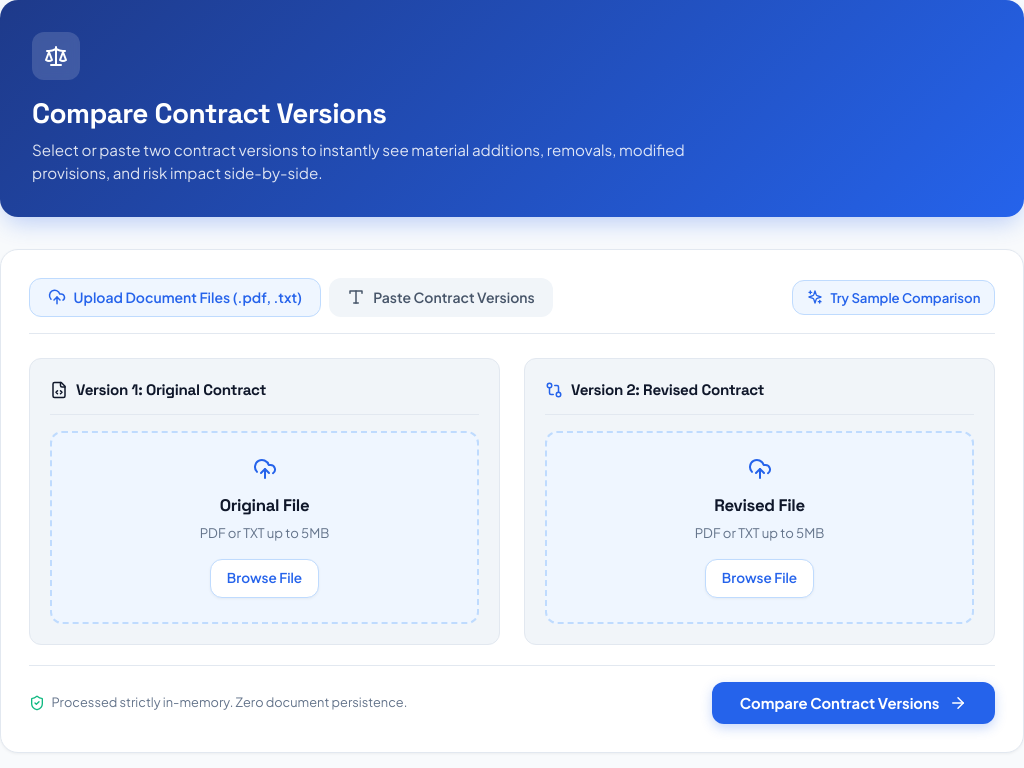
Test case: Frontend Edge Cases, Error States, and Loading States › Loading States › displays loading spinner state in DocumentComparison while API promise is pending
Click the button "Paste Contract Versions" at [441, 297], box [329, 278, 553, 317]
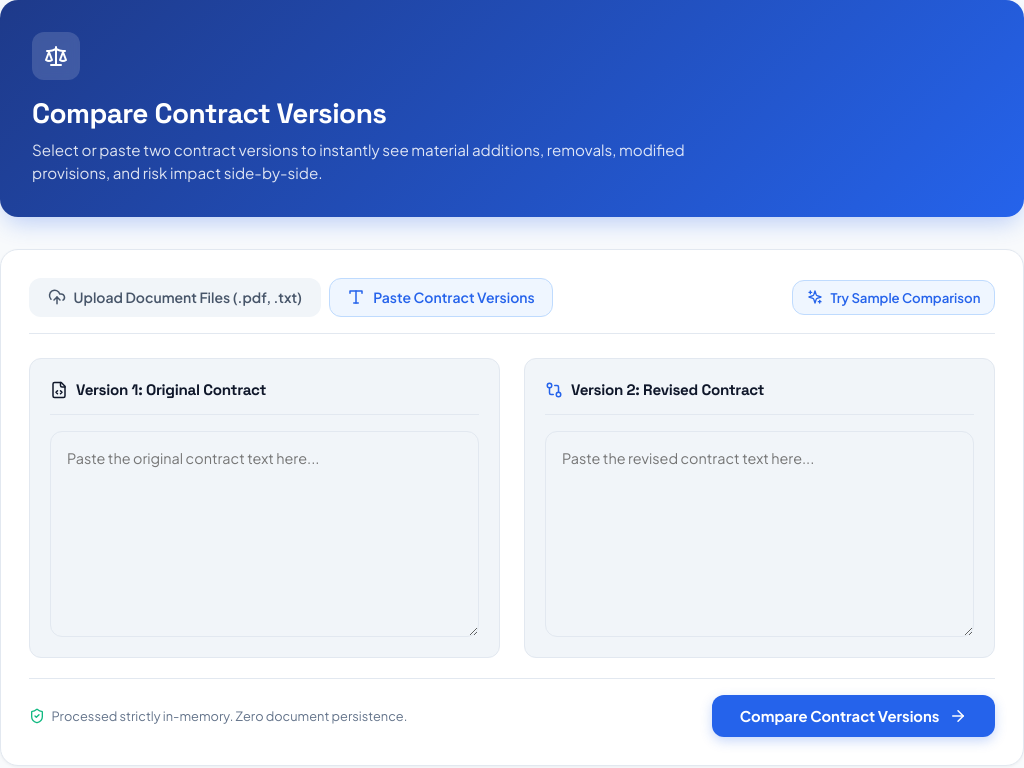
Type "Original NDA contract version text for testing." into the text box with placeholder "Paste the original contract text here..." at [264, 534], box [50, 431, 479, 637]
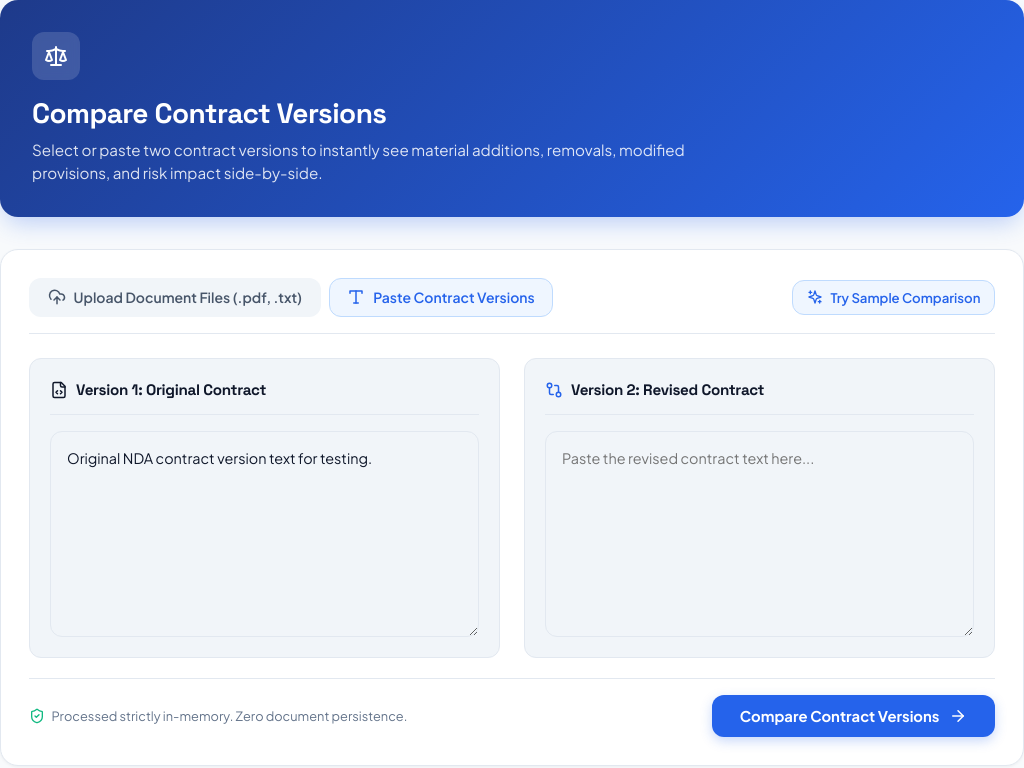
Type "Revised NDA contract version text with changes." into the text box with placeholder "Paste the revised contract text here..." at [760, 534], box [545, 431, 974, 637]
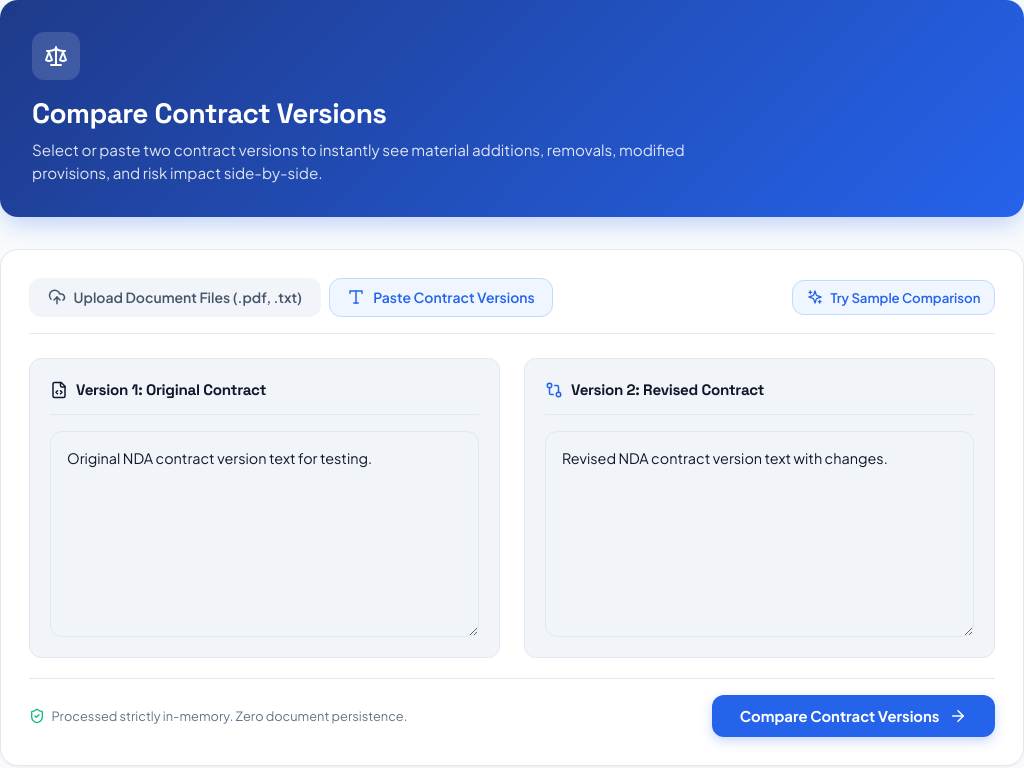
Click the button "Compare Contract Versions" at [853, 716], box [712, 695, 995, 737]
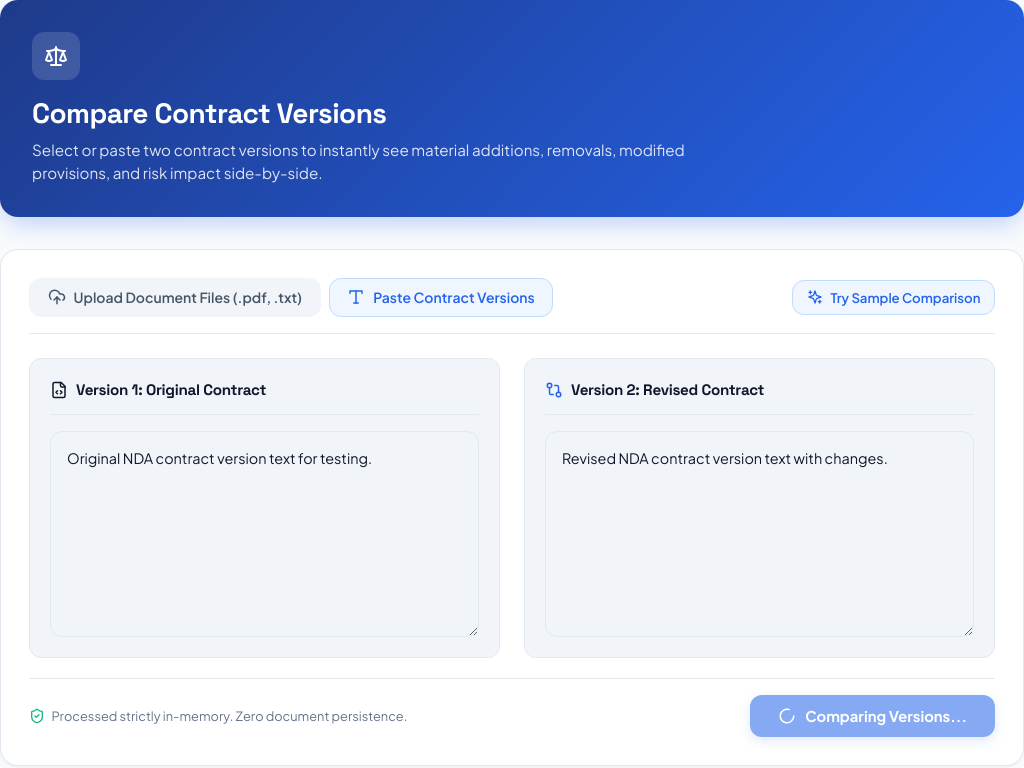
Now the button "Comparing Versions..." is disabled, box [750, 695, 995, 737]
Now the text "Comparing Versions..." is shown, box [805, 707, 967, 725]
